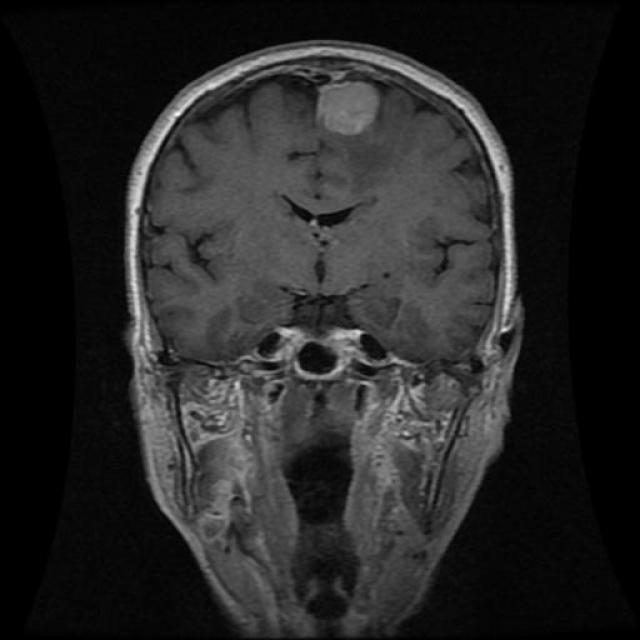Brain-Tumor: (304, 63, 389, 148)
